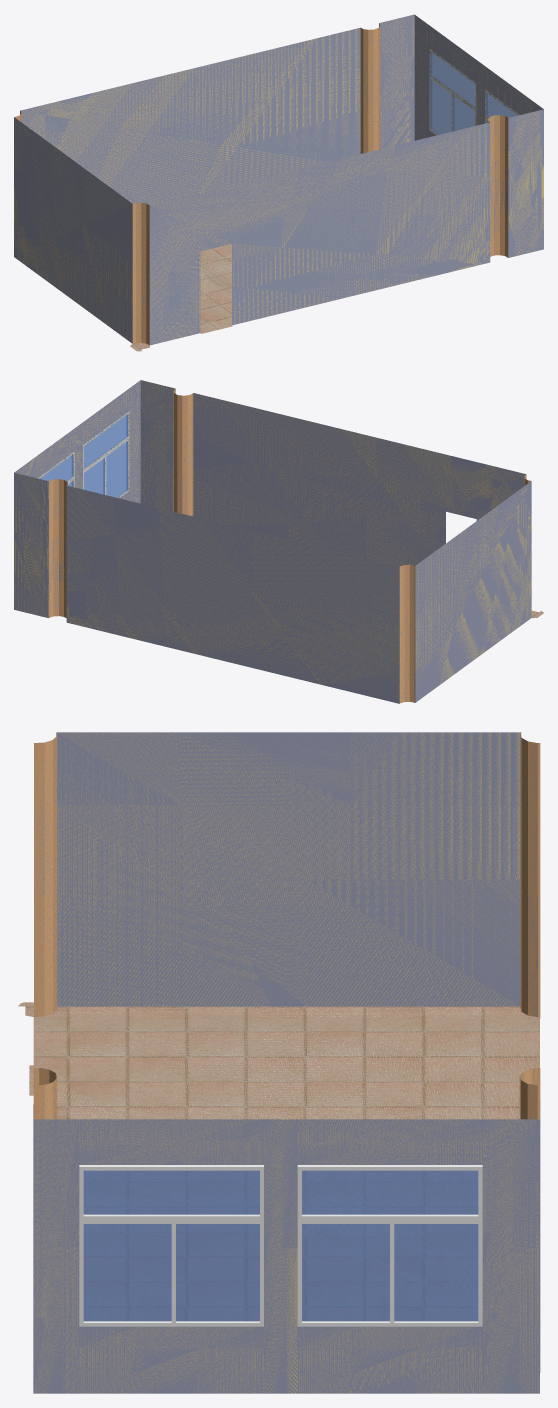
Rendered from LAB022.obj.
3 renders of one model, top to bottom at view 1: azimuth 30°, elevation 25°; view 2: azimuth 150°, elevation 25°; view 3: azimuth 270°, elevation 25°, orthographic. The views are drawn at different scales.
Parts seen in each view (by area): view 1: Mesh13 LAB022 Model, Mesh7 ventana1_2 LAB022 Model, Mesh1 ventana1_1 LAB022 Model; view 2: Mesh13 LAB022 Model, Mesh1 ventana1_1 LAB022 Model, Mesh7 ventana1_2 LAB022 Model; view 3: Mesh13 LAB022 Model, Mesh7 ventana1_2 LAB022 Model, Mesh1 ventana1_1 LAB022 Model.
Boxes of the visible parts, box(x1,y1,x2,y2) form: Mesh13 LAB022 Model: box(14, 14, 543, 351); Mesh7 ventana1_2 LAB022 Model: box(429, 49, 476, 135); Mesh1 ventana1_1 LAB022 Model: box(485, 89, 519, 123); Mesh13 LAB022 Model: box(14, 380, 543, 703); Mesh1 ventana1_1 LAB022 Model: box(83, 411, 129, 498); Mesh7 ventana1_2 LAB022 Model: box(37, 451, 74, 549); Mesh13 LAB022 Model: box(18, 732, 540, 1393); Mesh7 ventana1_2 LAB022 Model: box(297, 1165, 482, 1326); Mesh1 ventana1_1 LAB022 Model: box(79, 1165, 263, 1326).
Size of the model in its own units: 11.07 by 3.6 by 6.22.
8 materials, 2 textured.
